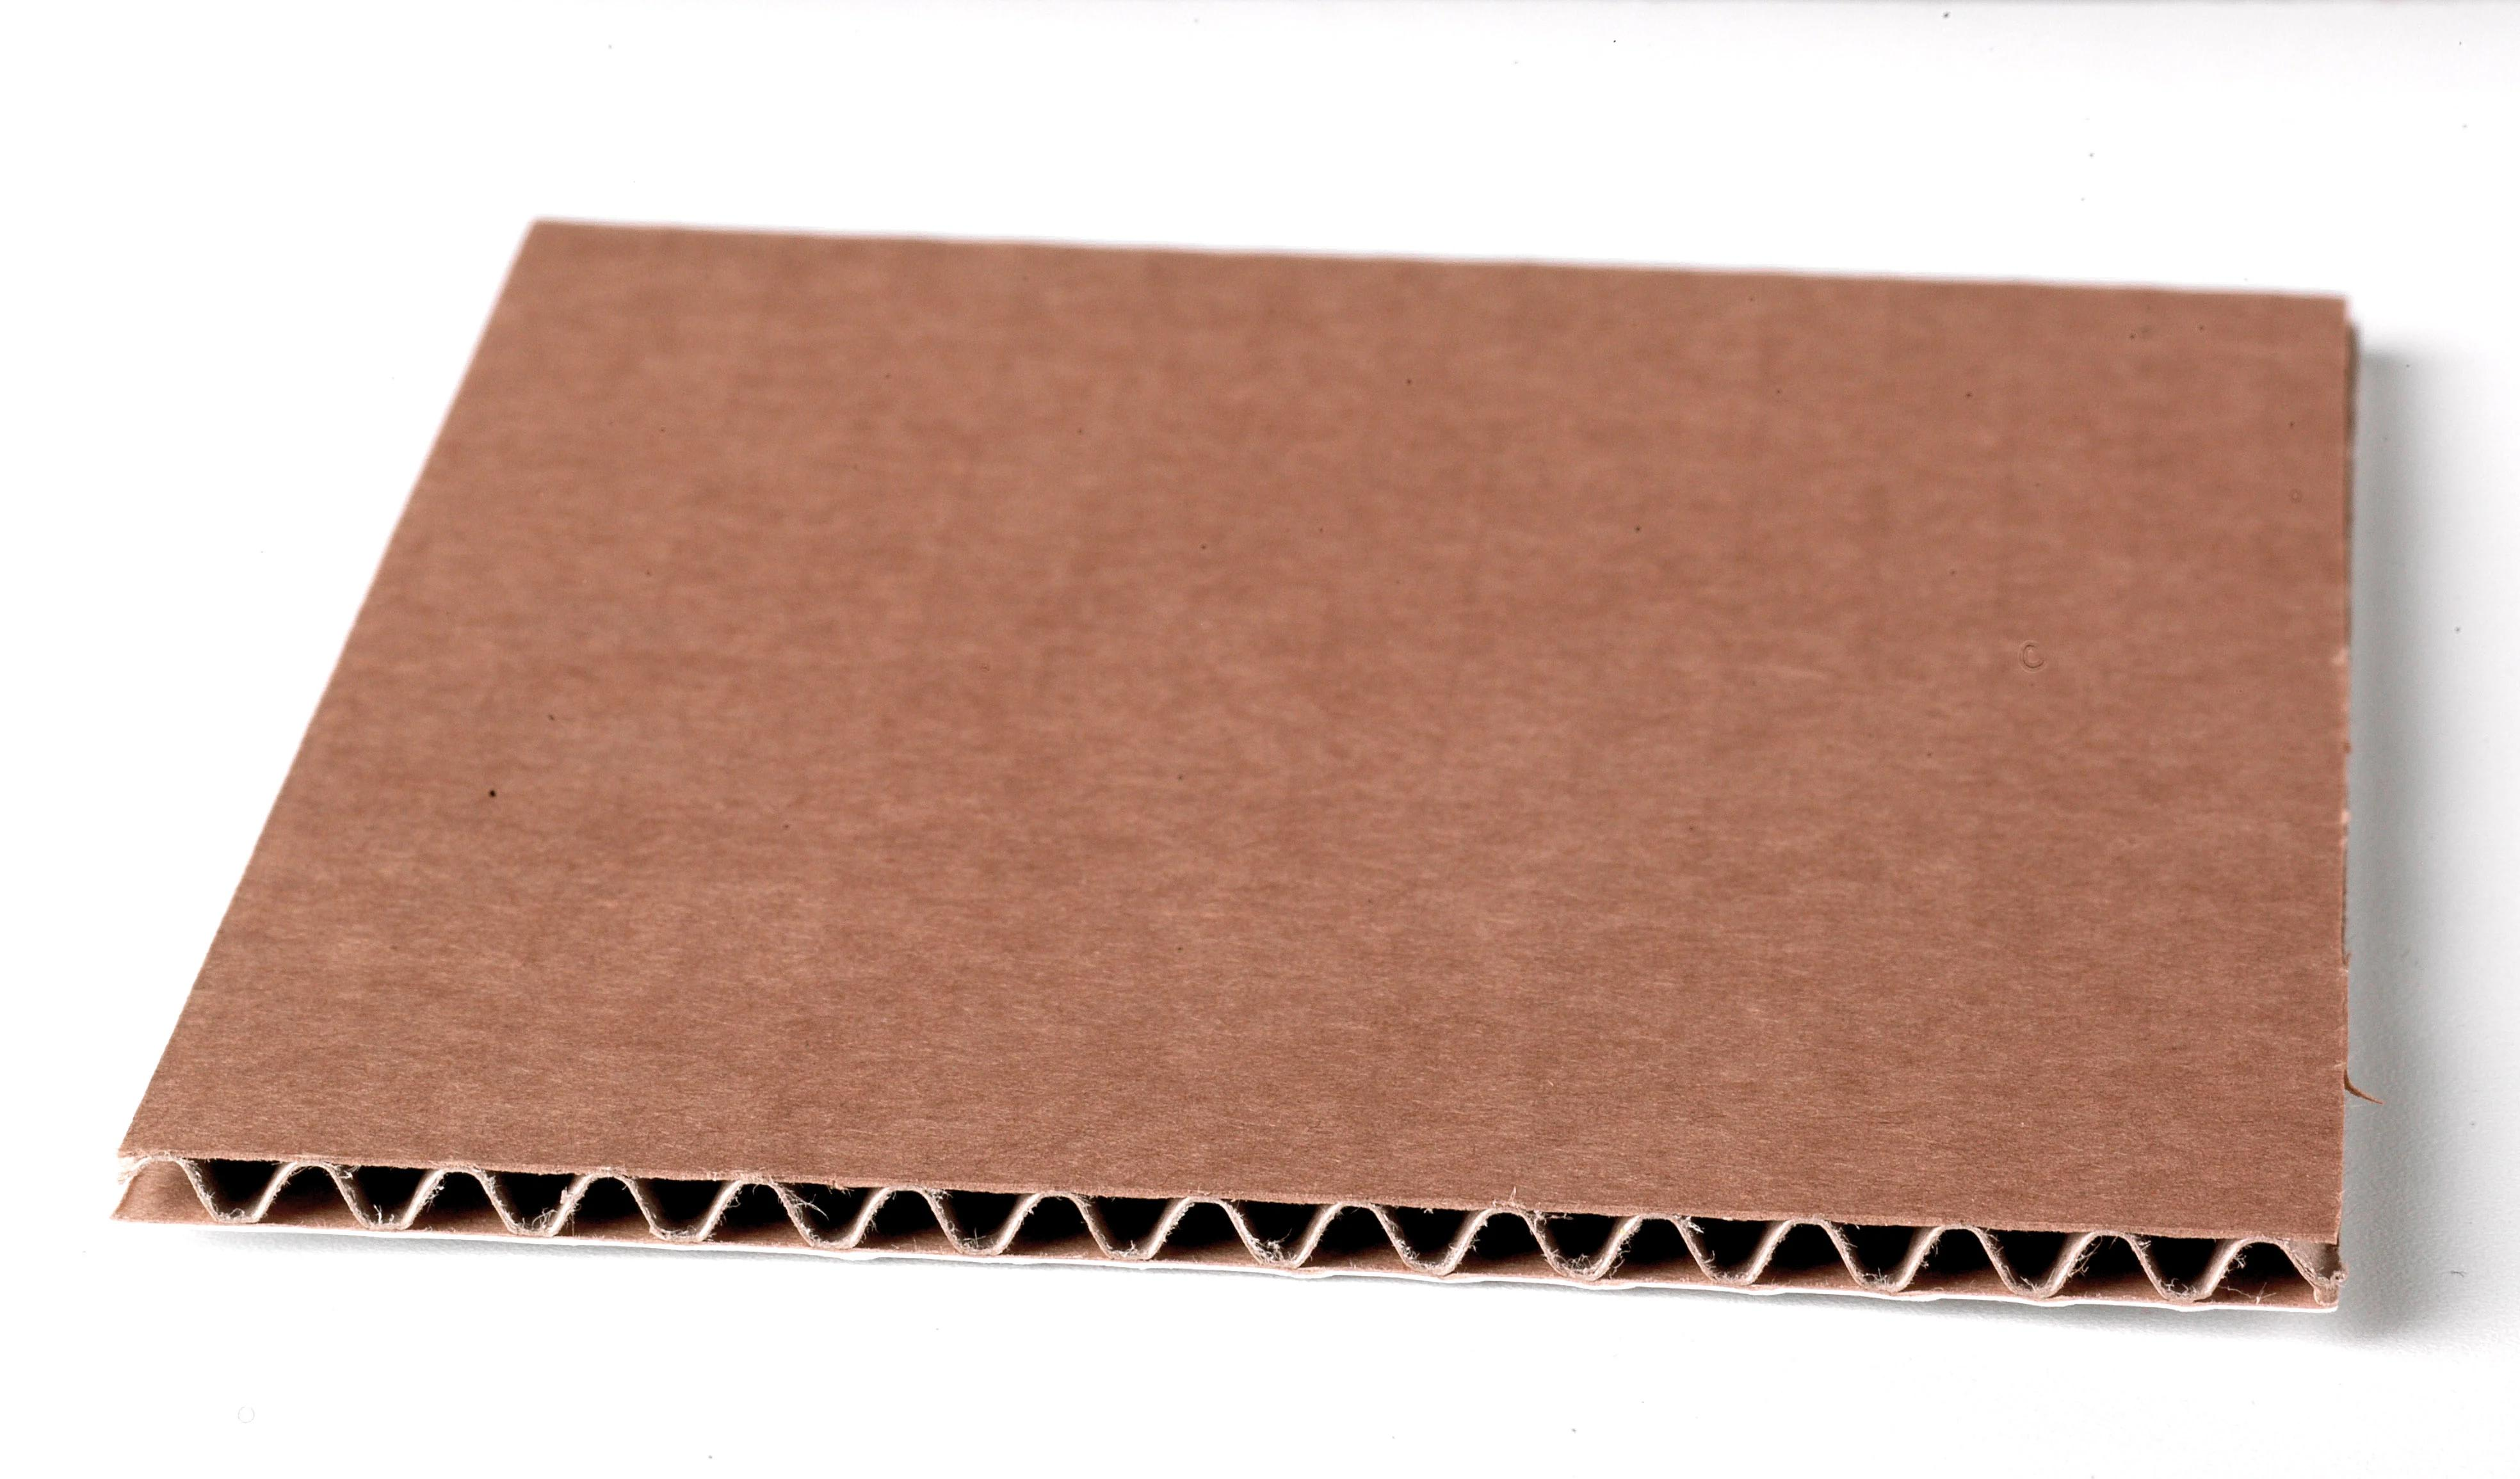plastic: (118, 206, 2399, 1319)
